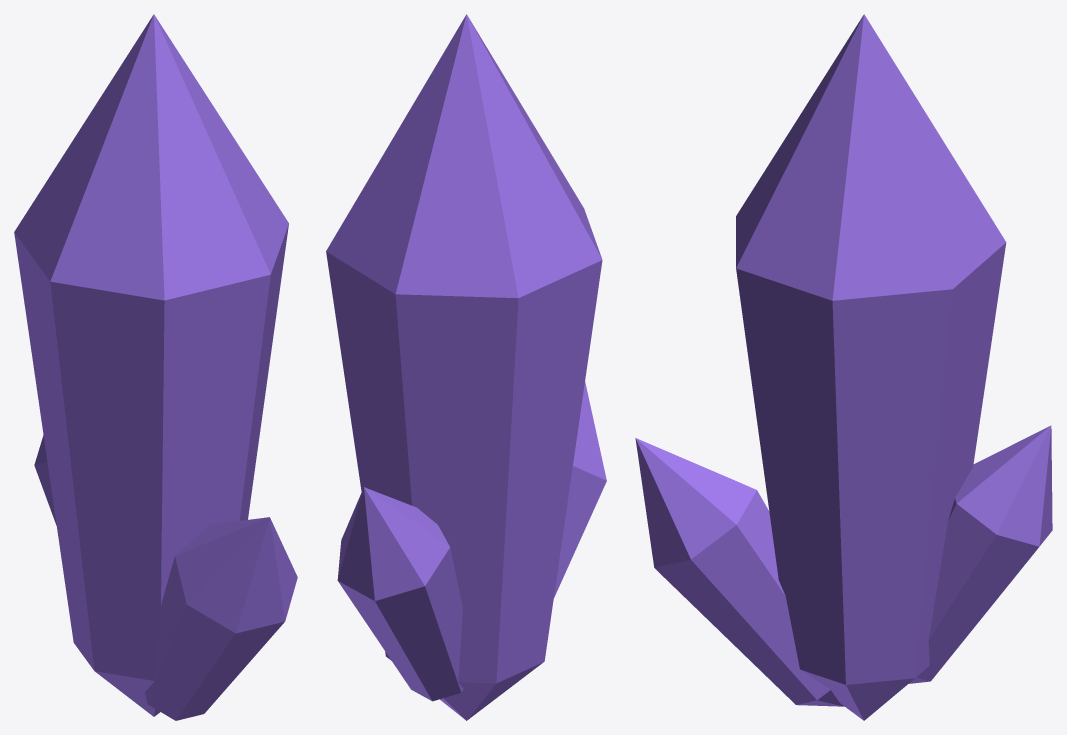
File: water-rock.glb
The picture shows the model from 3 angles, left to right: view 1: azimuth 30°, elevation 25°; view 2: azimuth 150°, elevation 25°; view 3: azimuth 270°, elevation 25°; orthographic projection.
Visible parts, largest first — view 1: Cylinder_0, Cylinder.001_1, Cylinder.002_2; view 2: Cylinder_0, Cylinder.002_2, Cylinder.001_1; view 3: Cylinder_0, Cylinder.001_1, Cylinder.002_2.
Part boxes in pixels (x1,y1,x2,y2): Cylinder_0: (14,14,288,716); Cylinder.001_1: (145,517,297,720); Cylinder.002_2: (34,435,56,525); Cylinder_0: (326,14,602,720); Cylinder.002_2: (337,487,463,701); Cylinder.001_1: (554,381,606,597); Cylinder_0: (736,14,1006,720); Cylinder.001_1: (635,438,844,706); Cylinder.002_2: (909,425,1052,683).
Size of the model in its own units: 1.64 by 4.61 by 2.47.
